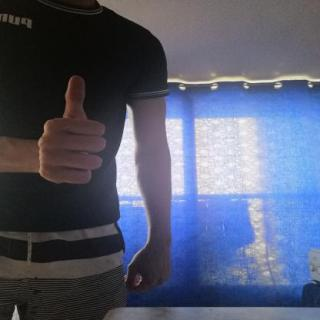ALIF: (26, 62, 122, 195)
